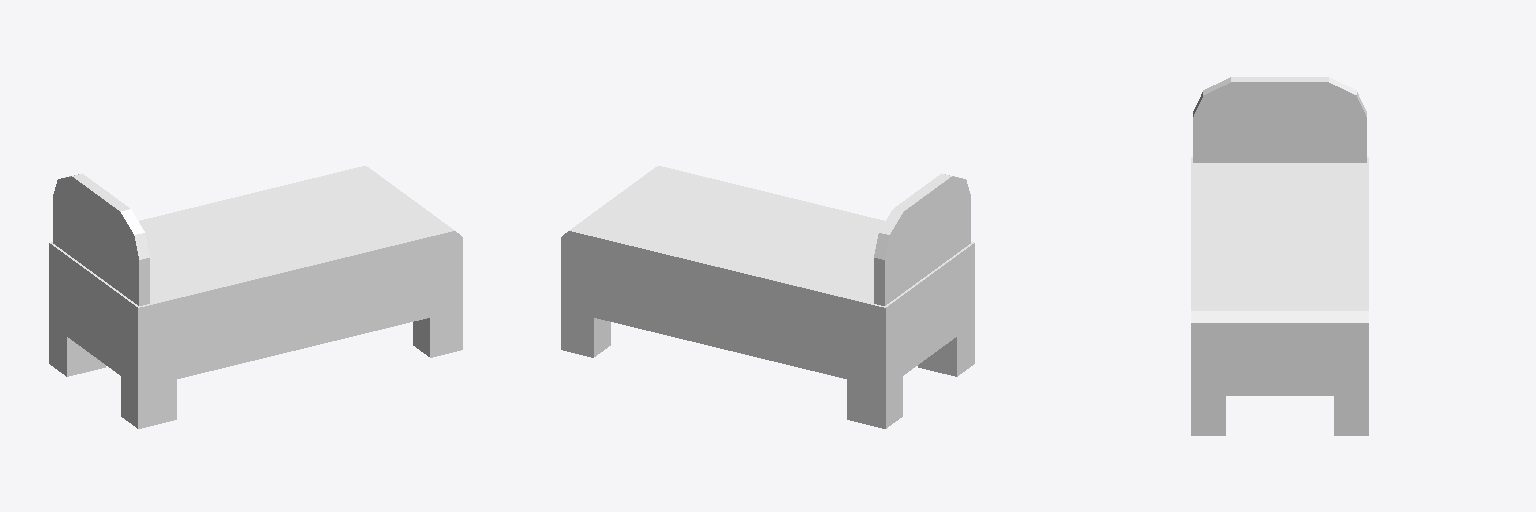
File: Bed.obj
3 renders of one model, left to right at view 1: azimuth 30°, elevation 25°; view 2: azimuth 150°, elevation 25°; view 3: azimuth 270°, elevation 25°, orthographic.
Visible parts, largest first — view 1: Cube1; view 2: Cube1; view 3: Cube1.
Part boxes in pixels (bbox=[...]): Cube1: bbox=[49, 166, 462, 428]; Cube1: bbox=[561, 166, 974, 428]; Cube1: bbox=[1191, 77, 1368, 435].
Bounding box in the file's own units: 4.2 × 2.5 × 2.